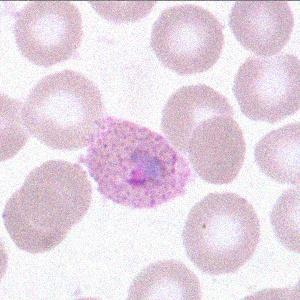Infected: (82, 114, 191, 209)
Uninfected: (22, 73, 101, 151), (185, 193, 257, 277), (16, 161, 91, 227), (152, 6, 224, 71), (162, 84, 231, 151), (234, 53, 300, 120), (15, 0, 83, 65), (4, 188, 74, 249), (187, 118, 242, 183), (228, 2, 293, 53), (128, 258, 200, 300)
